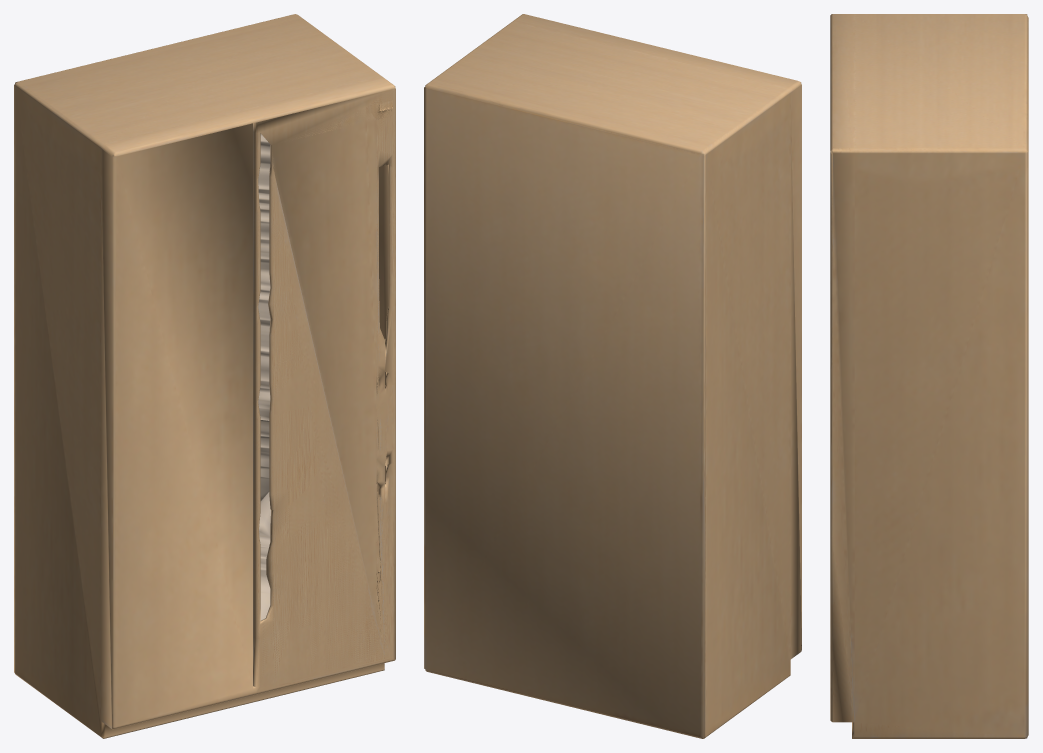
The model's file is Meshy_AI_model.fbx.
3 views of the same model, side by side, from view 1: azimuth 30°, elevation 25°; view 2: azimuth 150°, elevation 25°; view 3: azimuth 270°, elevation 25° (orthographic).
Parts seen in each view (by area): view 1: Mesh_0; view 2: Mesh_0; view 3: Mesh_0.
Part boxes in pixels (left/top/right/bottom): Mesh_0: left=14, top=14, right=395, bottom=738; Mesh_0: left=424, top=14, right=801, bottom=738; Mesh_0: left=830, top=14, right=1028, bottom=738.
Size of the model in its own units: 95.11 by 191 by 57.93.
1 material, 1 textured.
